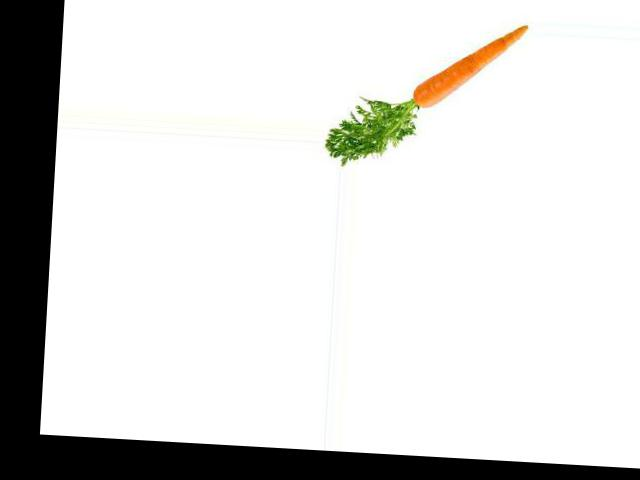carrot: (405, 17, 533, 117)
